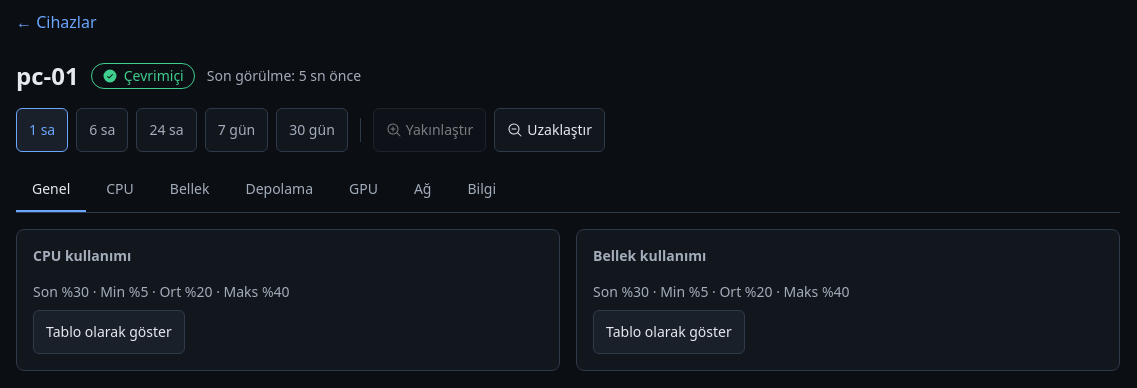
Test case: sekmeler ve metrik kesfi › device_info null: 'Cihaz bilgisi yok'
This screenshot has width=1137, height=388.
Expected: the element showing "Genel CPU Bellek Depolama GPU Ağ Bilgi" is shown, [16,168,1120,213]
Click the tab "Bilgi": [482, 190] box [452,168,512,212]
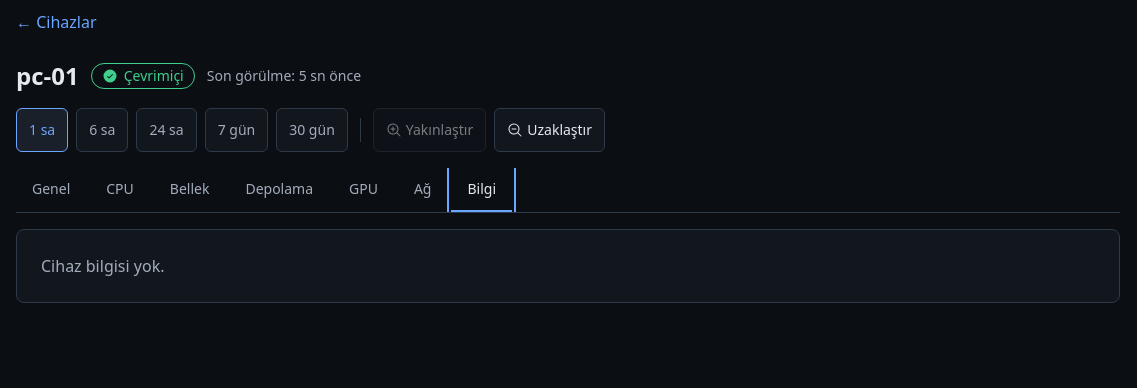
Now the text "Cihaz bilgisi yok." is shown, box [16,229,1120,303]
